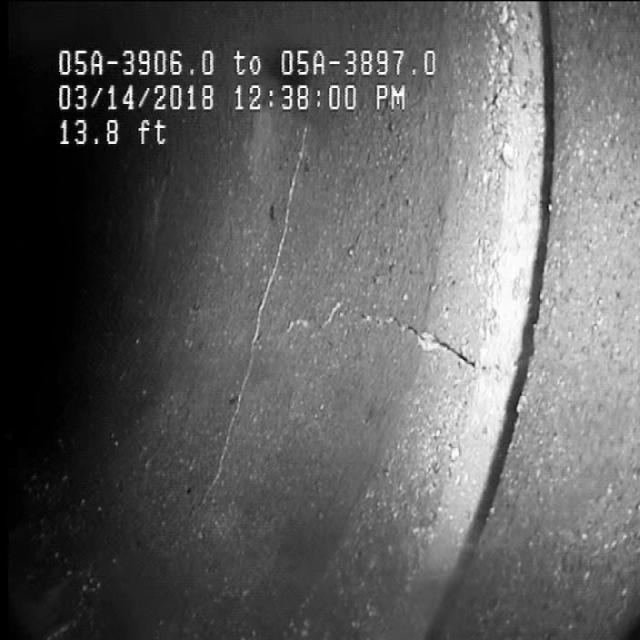Crack: (214, 153, 298, 463), (286, 285, 476, 393)
